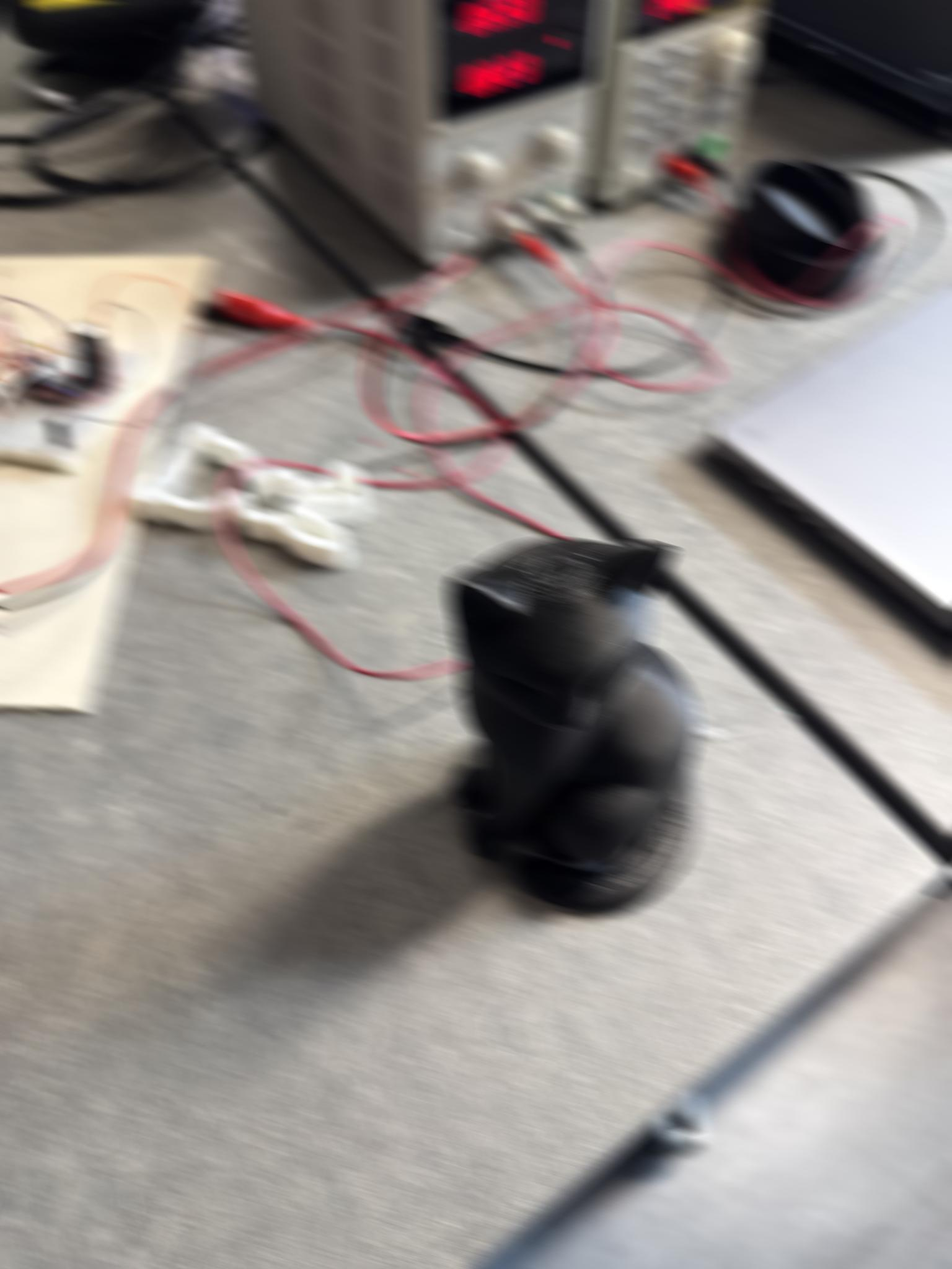cat: (448, 539, 698, 914)
